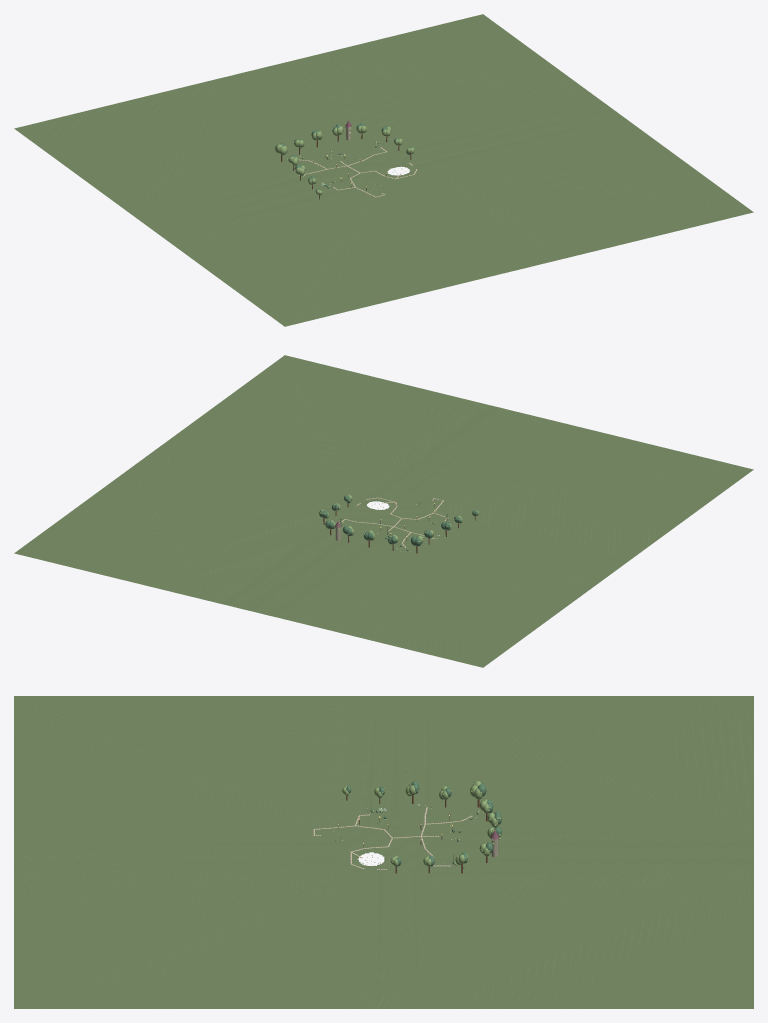
The model's file is village-ground.glb.
3 views of the same model, one above another, from view 1: azimuth 30°, elevation 25°; view 2: azimuth 150°, elevation 25°; view 3: azimuth 270°, elevation 25° (orthographic). The views are drawn at different scales.
Visible parts, largest first — view 1: Forest hamlet; view 2: Forest hamlet; view 3: Forest hamlet.
Boxes of the visible parts, x1,y1,x2,y2 form: Forest hamlet: [14, 14, 753, 326]; Forest hamlet: [14, 355, 753, 667]; Forest hamlet: [14, 696, 753, 1008].
Size of the model in its own units: 180 by 7.22 by 180.
13 materials, 13 textured.
